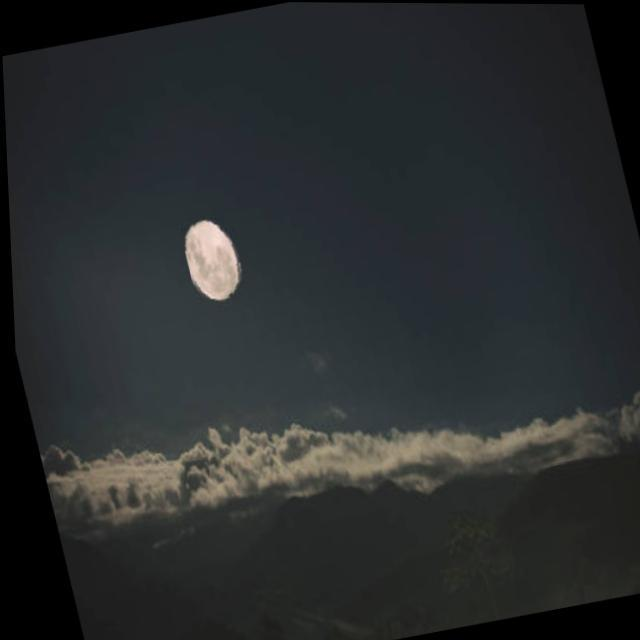moon: (176, 212, 246, 302)
